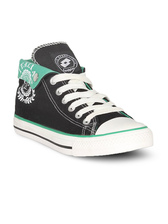shoes: (10, 43, 154, 157)
